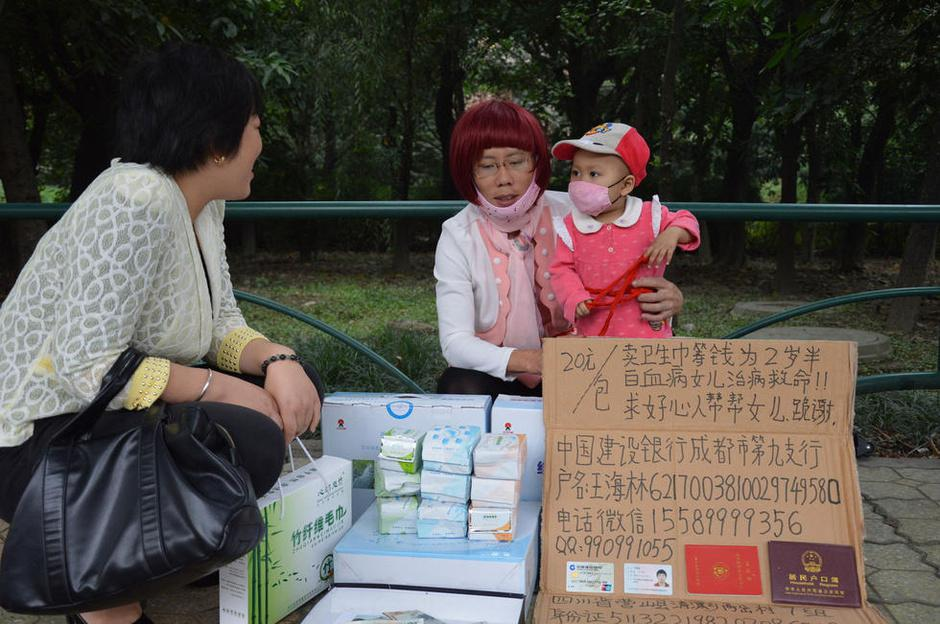NONE: (200, 120, 273, 200)
OK: (567, 158, 623, 214)
WRONG: (467, 145, 539, 217)
